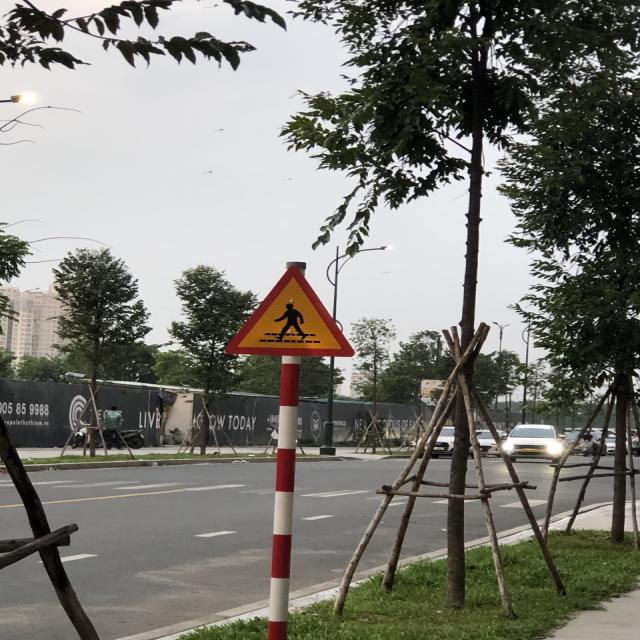Bien bao duong nguoi di bo cat ngang: (209, 256, 373, 366)
